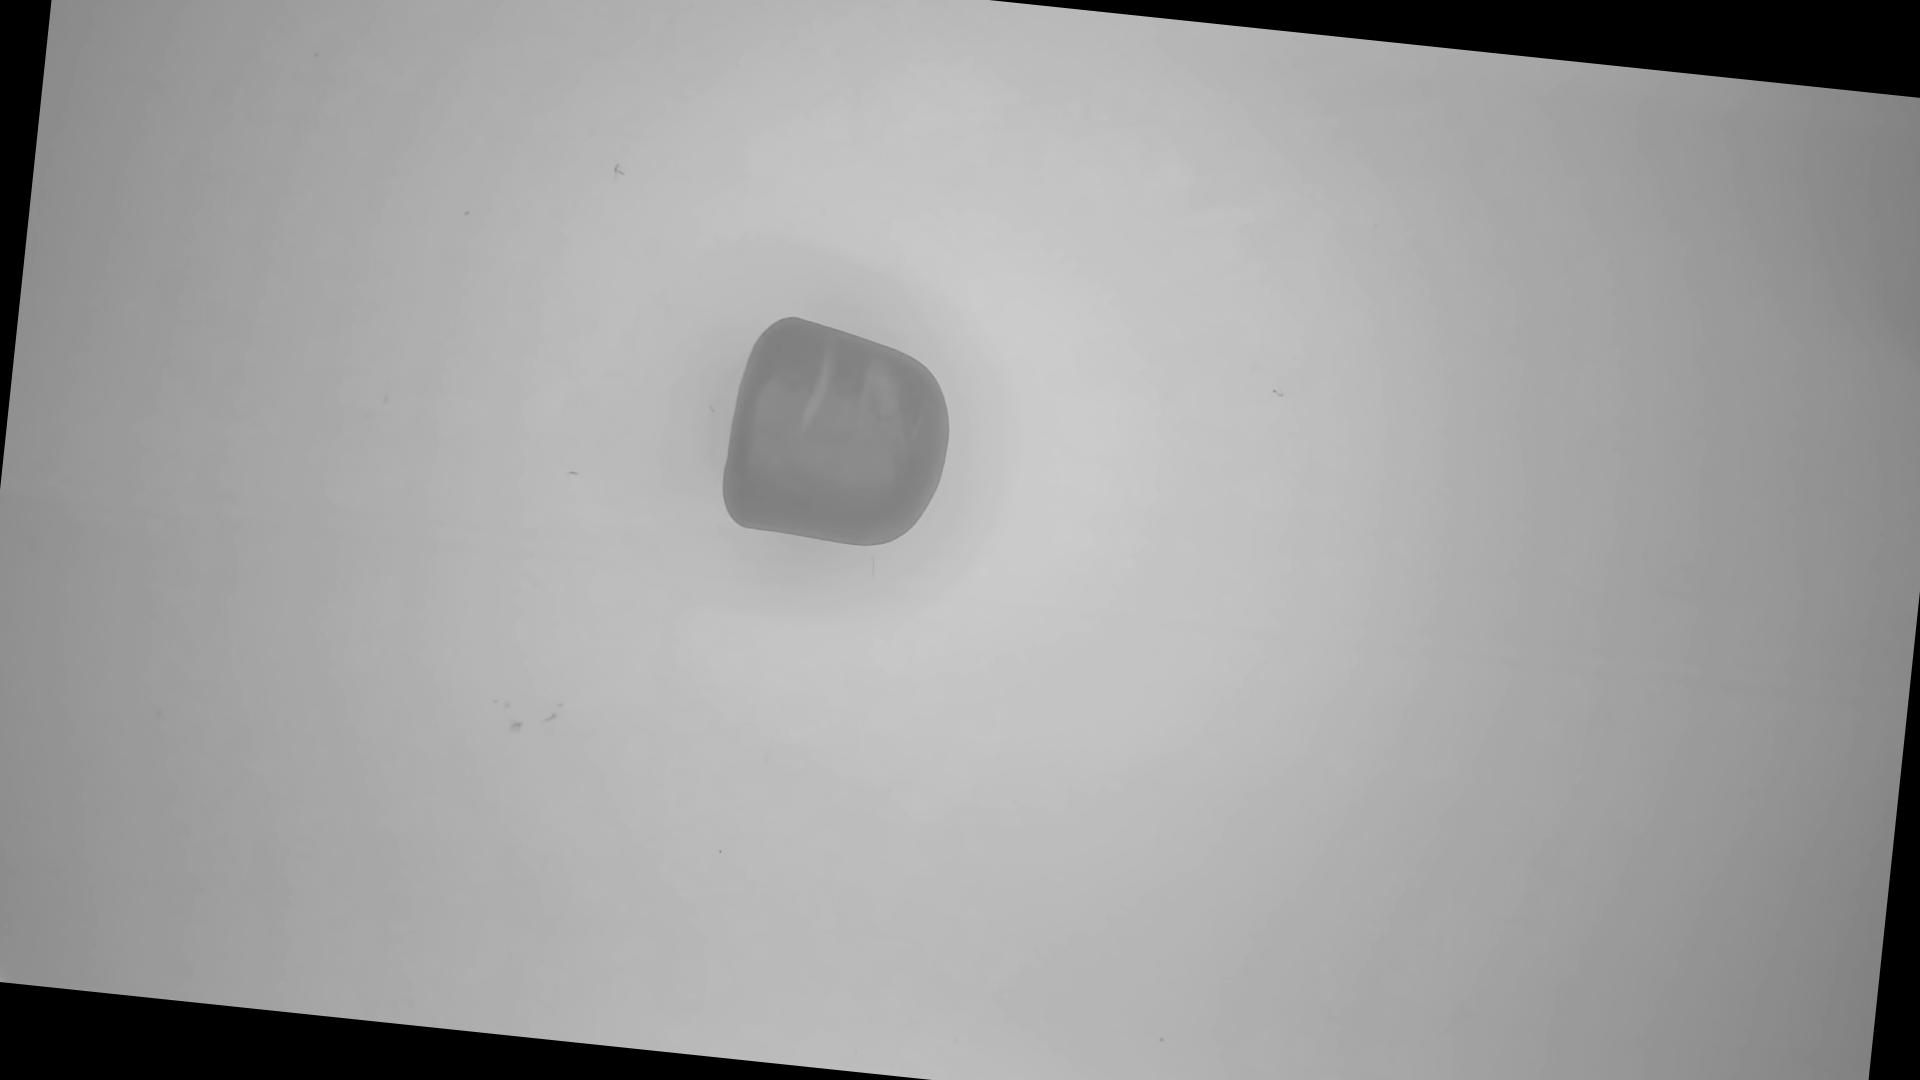abnormal: (717, 307, 964, 560)
